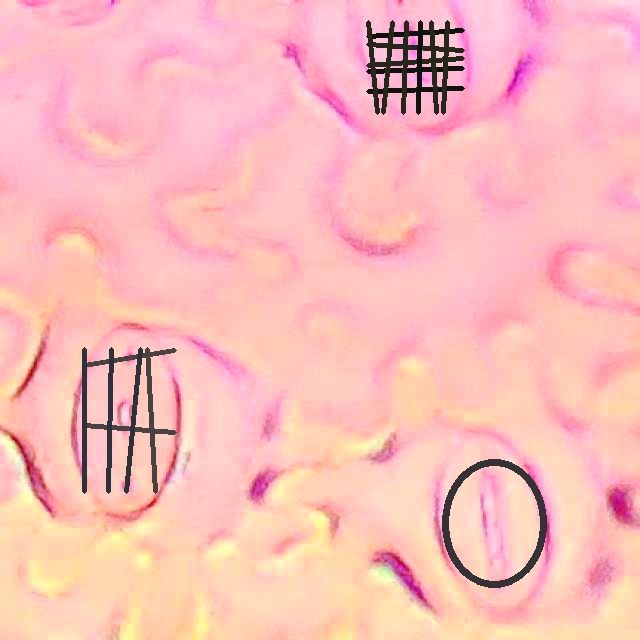close: (82, 347, 176, 493)
open: (442, 458, 547, 588), (366, 21, 463, 113)
